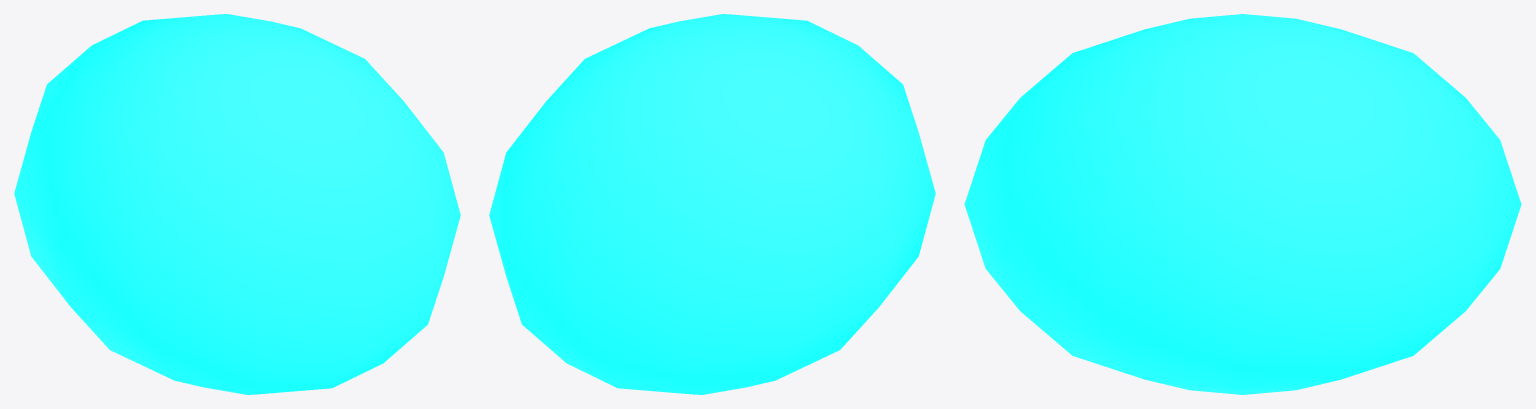
File: creature_tail_segment.glb
The picture shows the model from 3 angles, left to right: view 1: azimuth 30°, elevation 25°; view 2: azimuth 150°, elevation 25°; view 3: azimuth 270°, elevation 25°; orthographic projection. The views are drawn at different scales.
Size of the model in its own units: 0.7 by 0.6 by 0.9.
